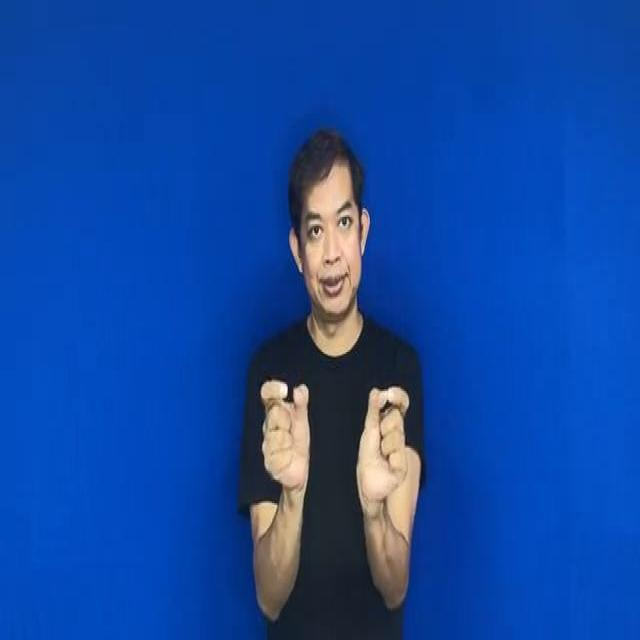crab: (246, 352, 414, 506)
